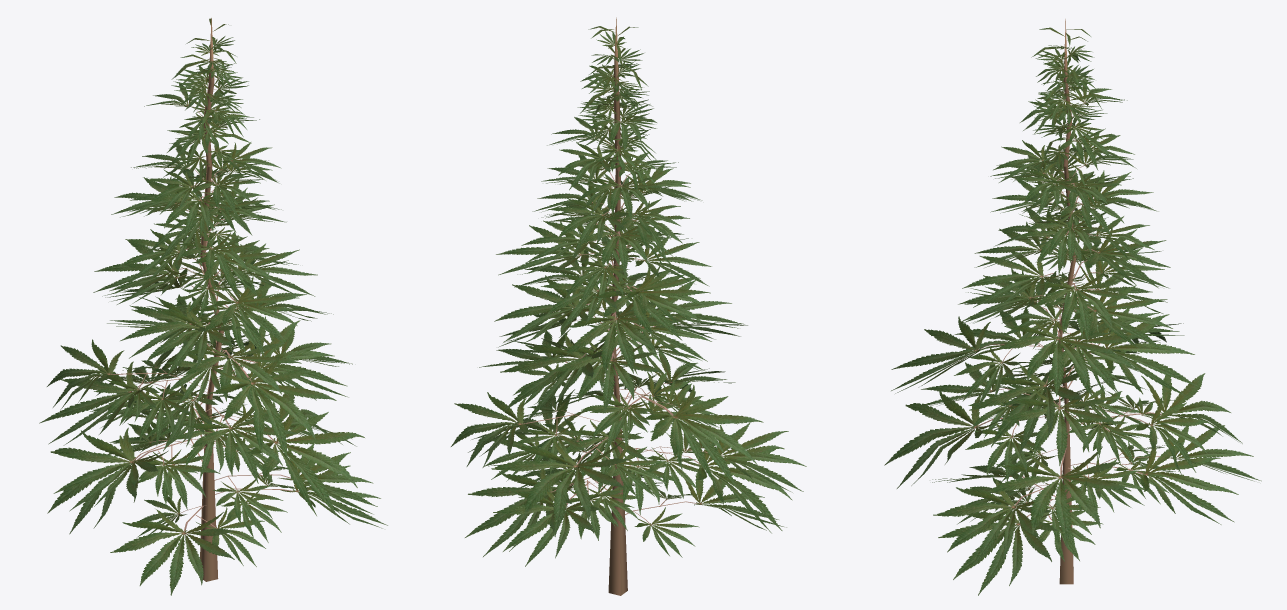
The model's file is Cannabis Plant.fbx.
The picture shows the model from 3 angles, left to right: view 1: azimuth 30°, elevation 25°; view 2: azimuth 150°, elevation 25°; view 3: azimuth 270°, elevation 25°; orthographic projection. The views are drawn at different scales.
Visible parts, largest first — view 1: Cannabis Plant; view 2: Cannabis Plant; view 3: Cannabis Plant.
Part boxes in pixels (left/top/right/bottom): Cannabis Plant: left=39, top=18, right=387, bottom=595; Cannabis Plant: left=451, top=17, right=806, bottom=595; Cannabis Plant: left=884, top=19, right=1261, bottom=595.
Bounding box in the file's own units: 122 × 188 × 124.
1 material, 1 textured.
